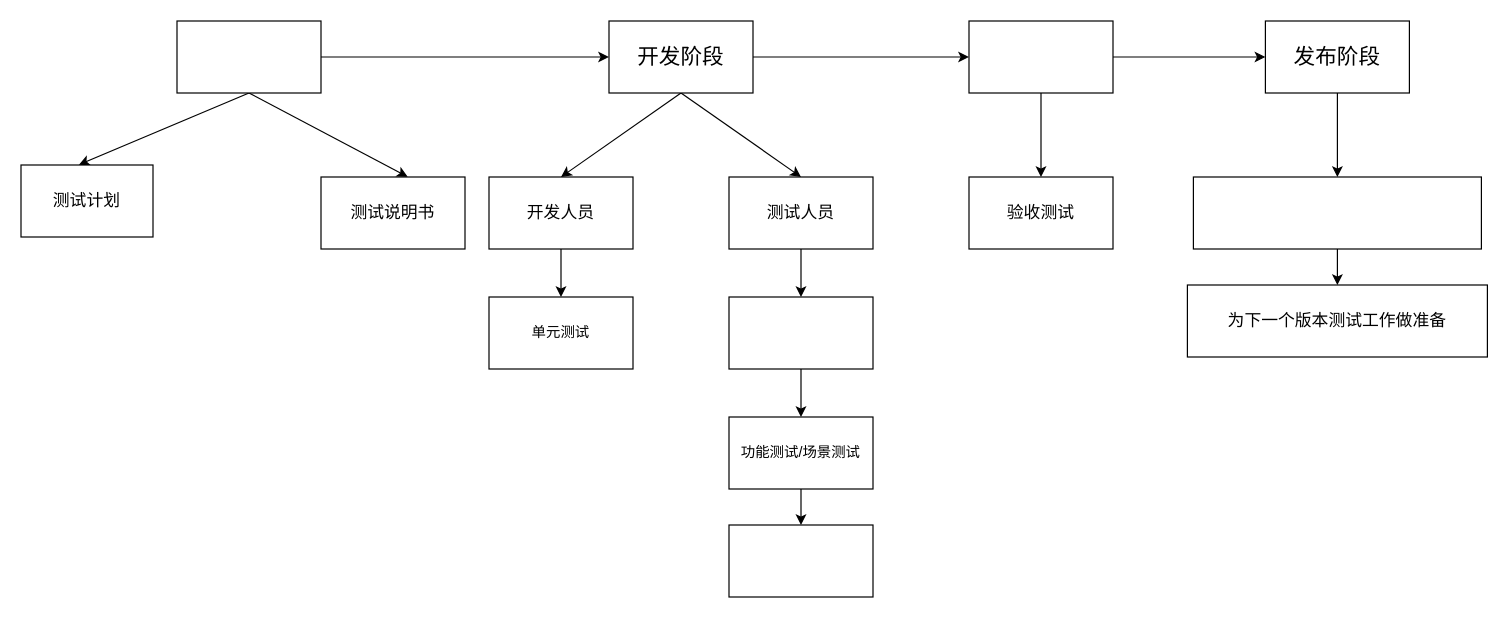
This 1508x618 diagram has some shape labels left out. The centre of each missing label's shape, as x and y in pixels:
BVT: the point at 800,332
压⼒测试等等: the point at 800,560
测试用例自动化: the point at 1336,212
稳定阶段: the point at 1040,56
设计阶段: the point at 248,56
